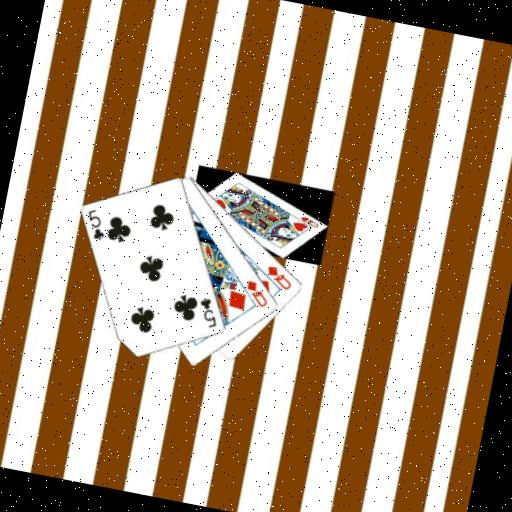5C: (193, 294, 224, 332), (81, 206, 111, 243)
QD: (261, 262, 297, 293), (241, 277, 273, 310)
